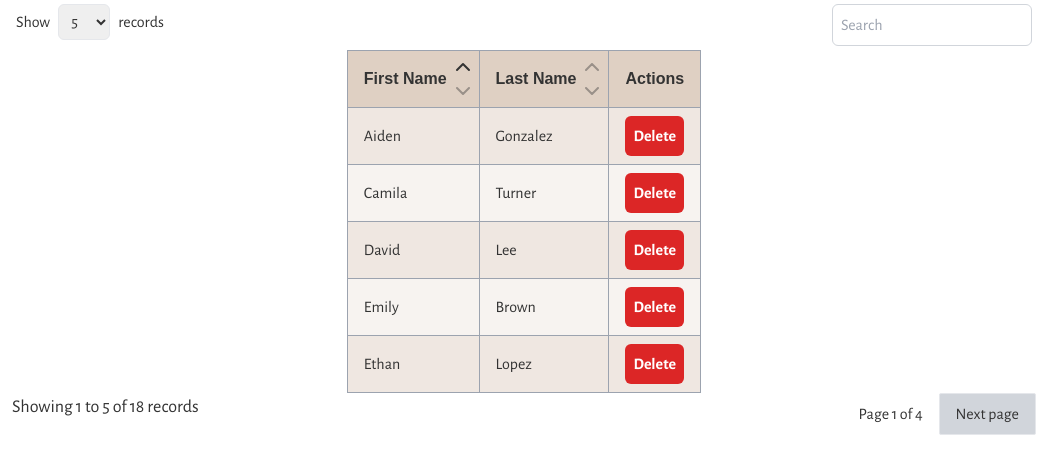
Test: Given the paginated table component, › It should filter correctly
Type "Aiden" into the field with test id "filter" at (932,25), box [832,4,1032,46]
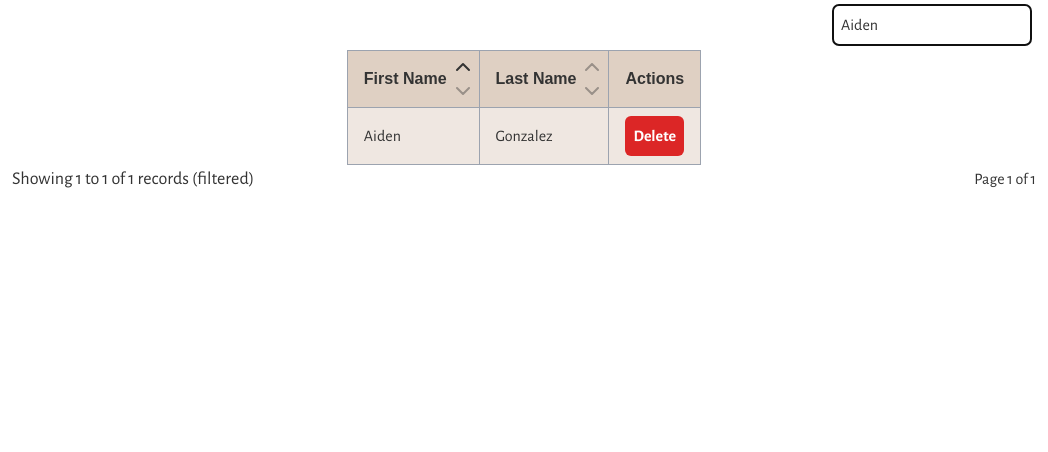
Expected: the number of buttons "Delete" is 1, [626,116,684,156]
